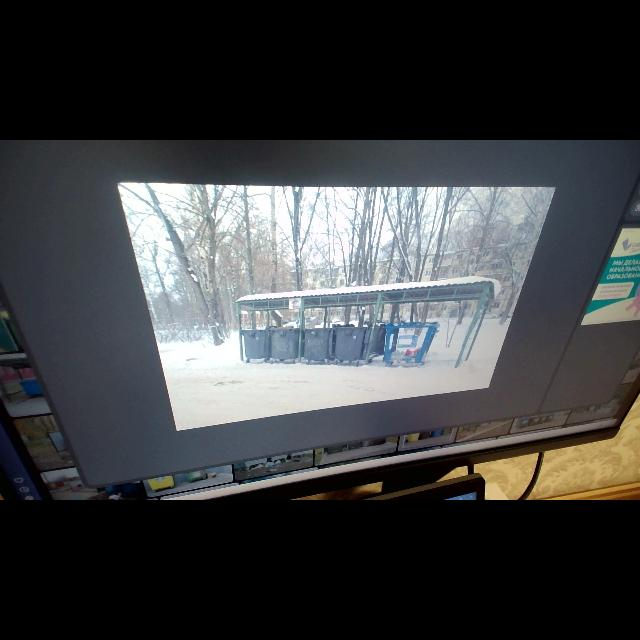Trash_Can_Empty: (383, 322, 441, 363), (334, 326, 366, 361), (269, 328, 299, 359), (240, 329, 270, 359), (304, 327, 330, 360)
